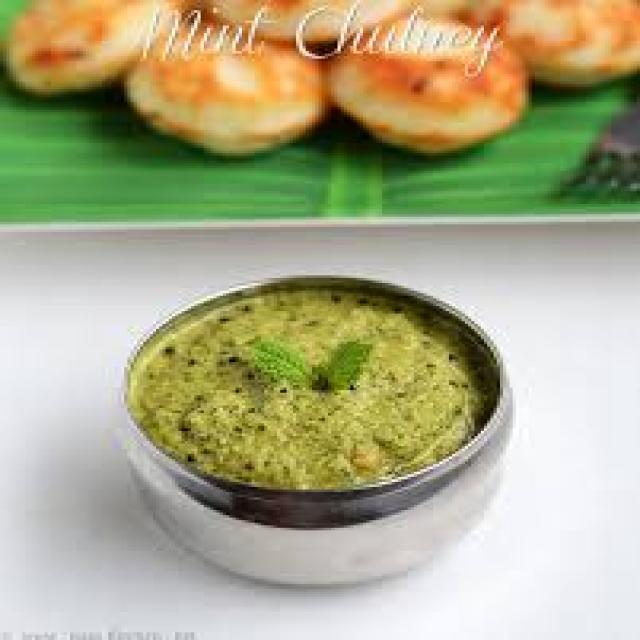GREEN CHUTNEY: (127, 288, 494, 487)
